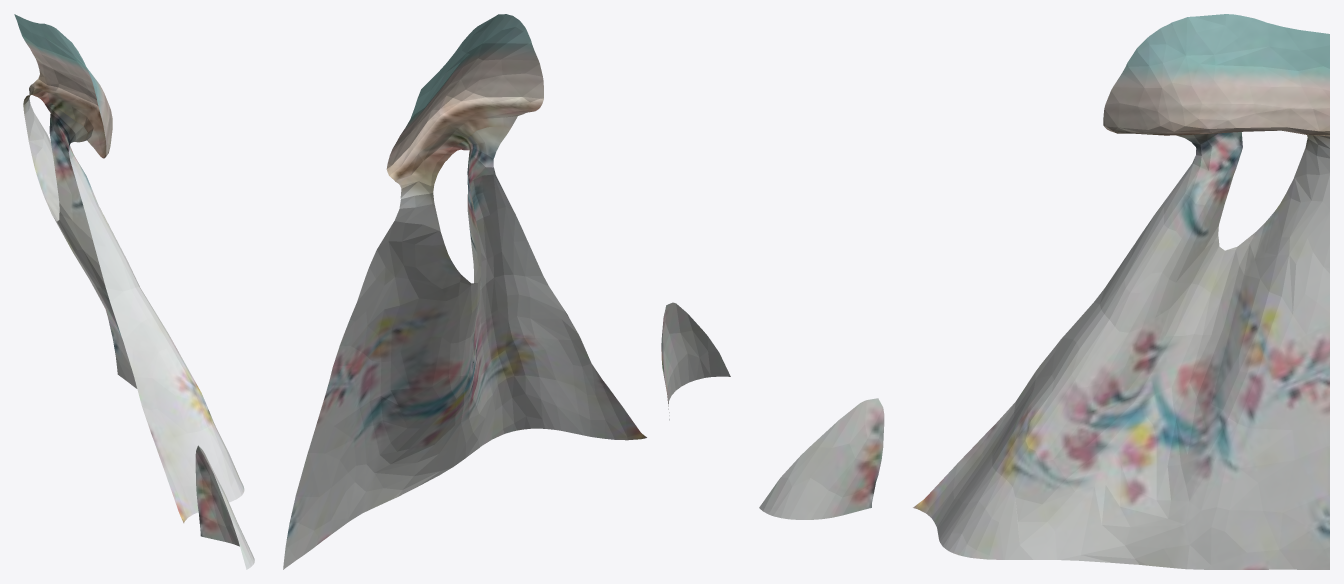
3 renders of one model, left to right at view 1: azimuth 30°, elevation 25°; view 2: azimuth 150°, elevation 25°; view 3: azimuth 270°, elevation 25°, orthographic. The views are drawn at different scales.
Size of the model in its own units: 35.7 by 132 by 139.
Materials: 1 (1 with a texture image).
